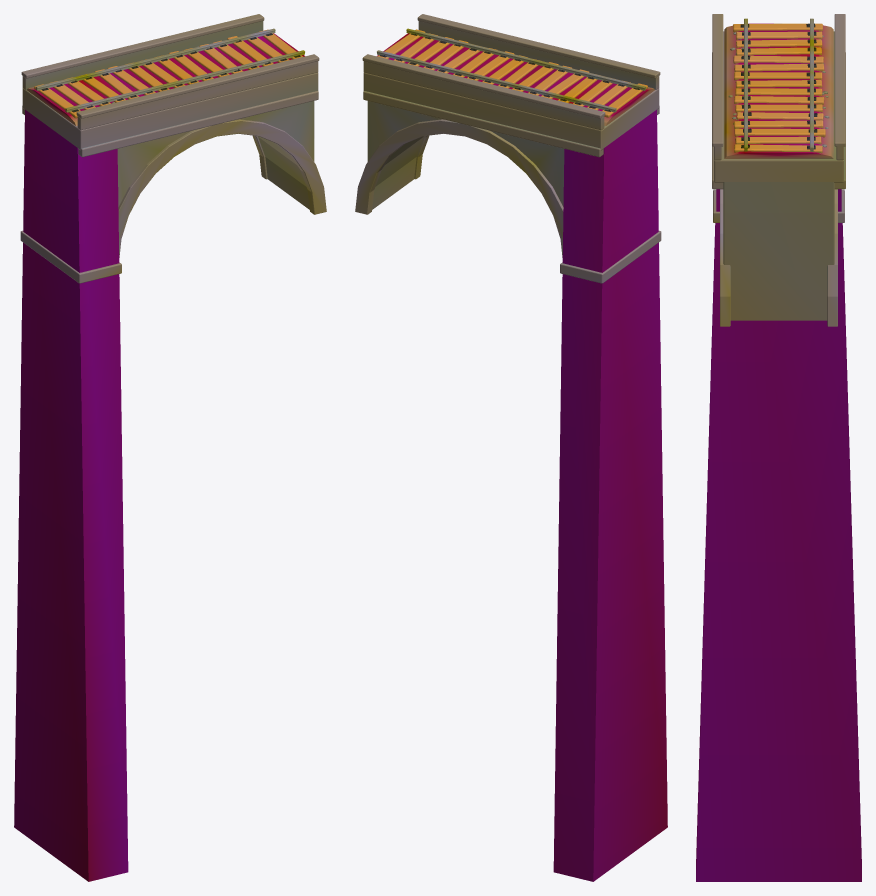
The model's file is Track_Bridge_Viaduct_12m.glb.
3 views of the same model, side by side, from view 1: azimuth 30°, elevation 25°; view 2: azimuth 150°, elevation 25°; view 3: azimuth 270°, elevation 25° (orthographic). The views are drawn at different scales.
Visible parts, largest first — view 1: Track_Bridge_Viaduct_12m; view 2: Track_Bridge_Viaduct_12m; view 3: Track_Bridge_Viaduct_12m.
Part boxes in pixels (x1,y1,x2,y2): Track_Bridge_Viaduct_12m: (14,14,326,881); Track_Bridge_Viaduct_12m: (355,14,667,881); Track_Bridge_Viaduct_12m: (696,14,861,881).
Size of the model in its own units: 12.63 by 36.64 by 6.5.
